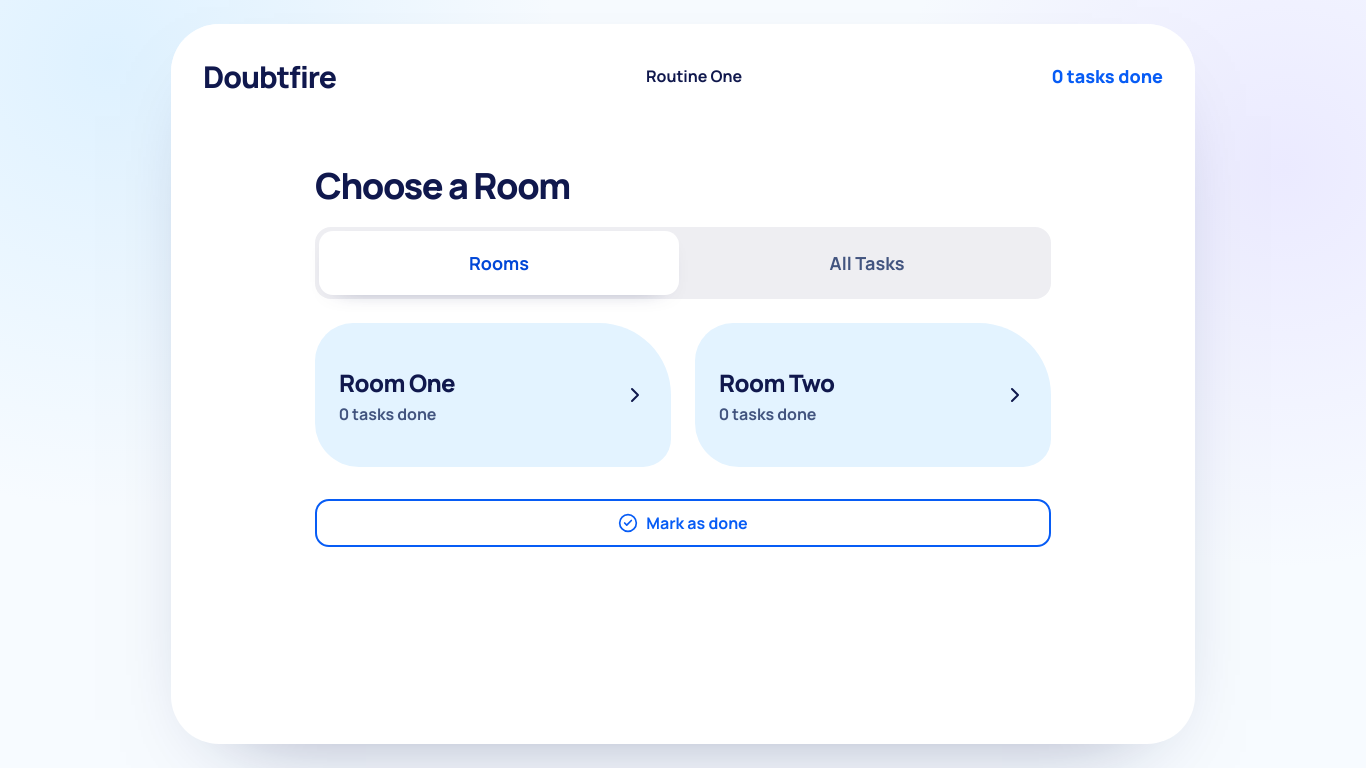
RunFlow › uses one Group heading and keeps the Note out of the Task name
Click the button "All Tasks".
click(867, 263)  # box [687, 231, 1047, 295]
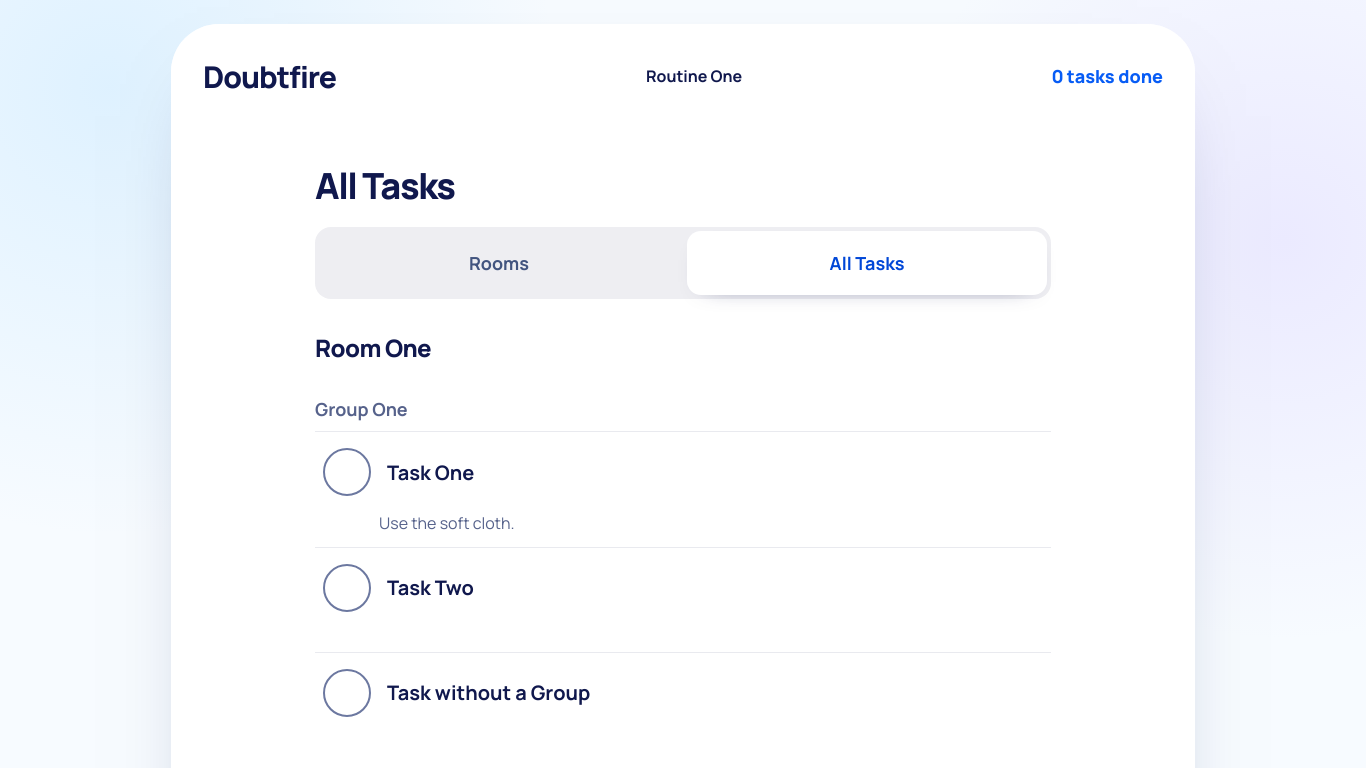
expect the number of headings "Group One" is 1: met, box [315, 397, 408, 421]
expect the text "Use the soft cloth." is shown: met, box [379, 512, 515, 534]
